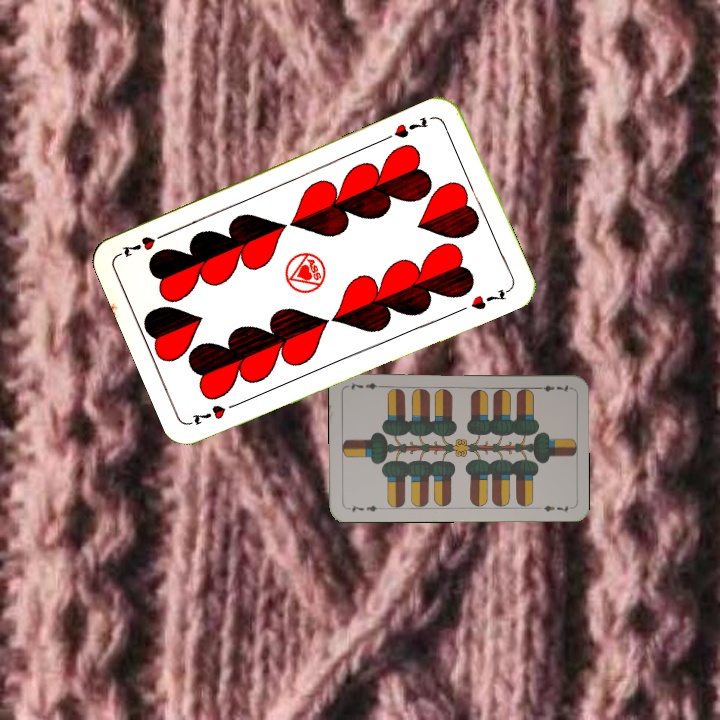E7: (532, 381, 572, 395), (344, 501, 384, 514)
H7: (187, 397, 244, 428), (389, 112, 431, 141)
